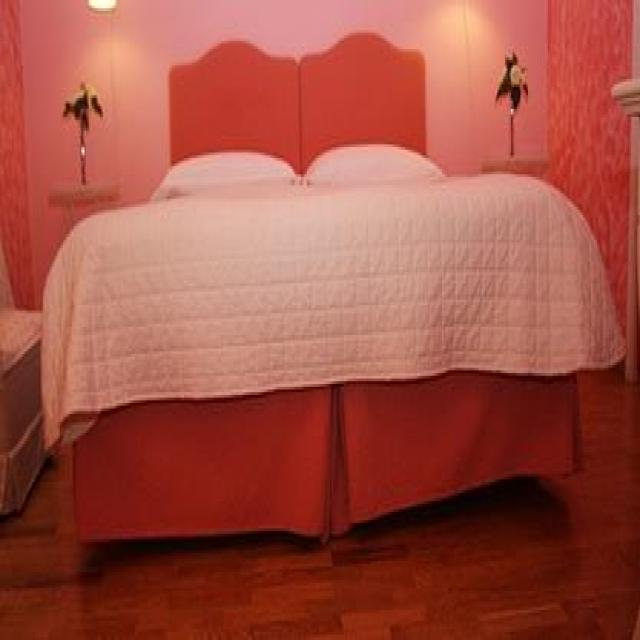bed: (40, 28, 626, 548)
